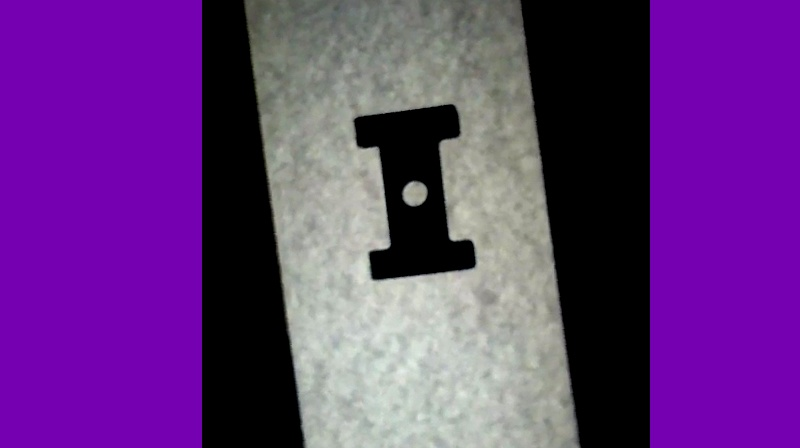O002: (350, 101, 477, 285)
